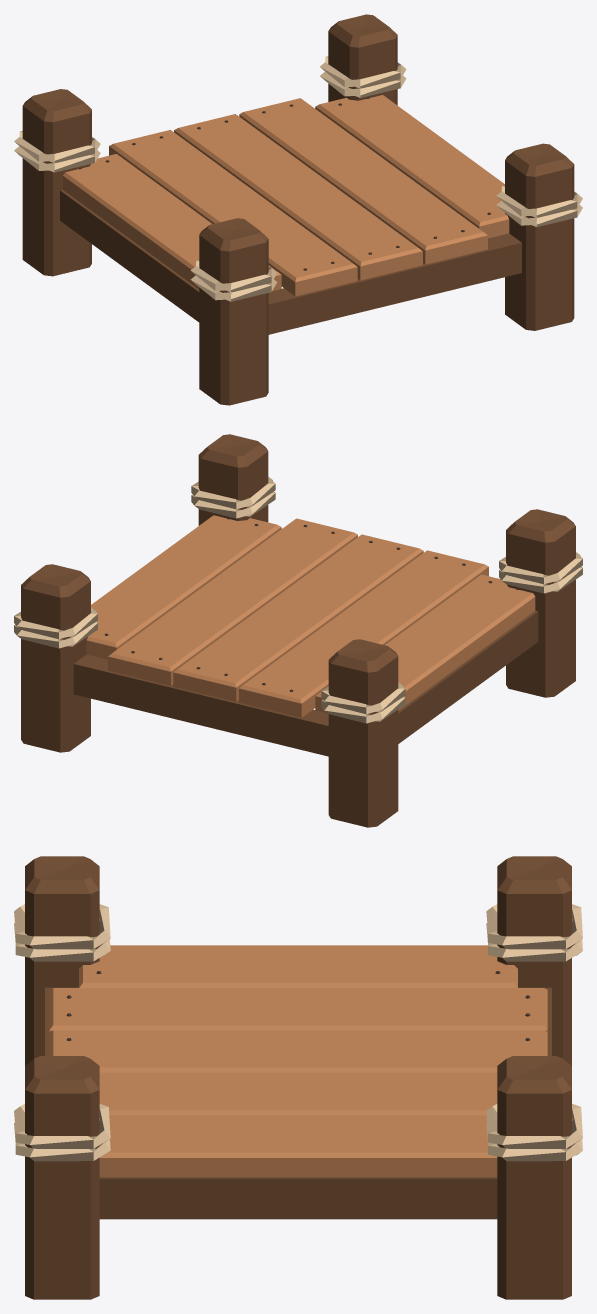
The model's file is dock_small pier.fbx.
The picture shows the model from 3 angles, top to bottom: view 1: azimuth 30°, elevation 25°; view 2: azimuth 150°, elevation 25°; view 3: azimuth 270°, elevation 25°; orthographic projection. The views are drawn at different scales.
Parts seen in each view (by area): view 1: Dock_Small_Pier; view 2: Dock_Small_Pier; view 3: Dock_Small_Pier.
Boxes of the visible parts, bbox=[...] form: Dock_Small_Pier: bbox=[14, 14, 582, 405]; Dock_Small_Pier: bbox=[14, 434, 582, 827]; Dock_Small_Pier: bbox=[14, 856, 582, 1299].
Size of the model in its own units: 229 by 96 by 229.
